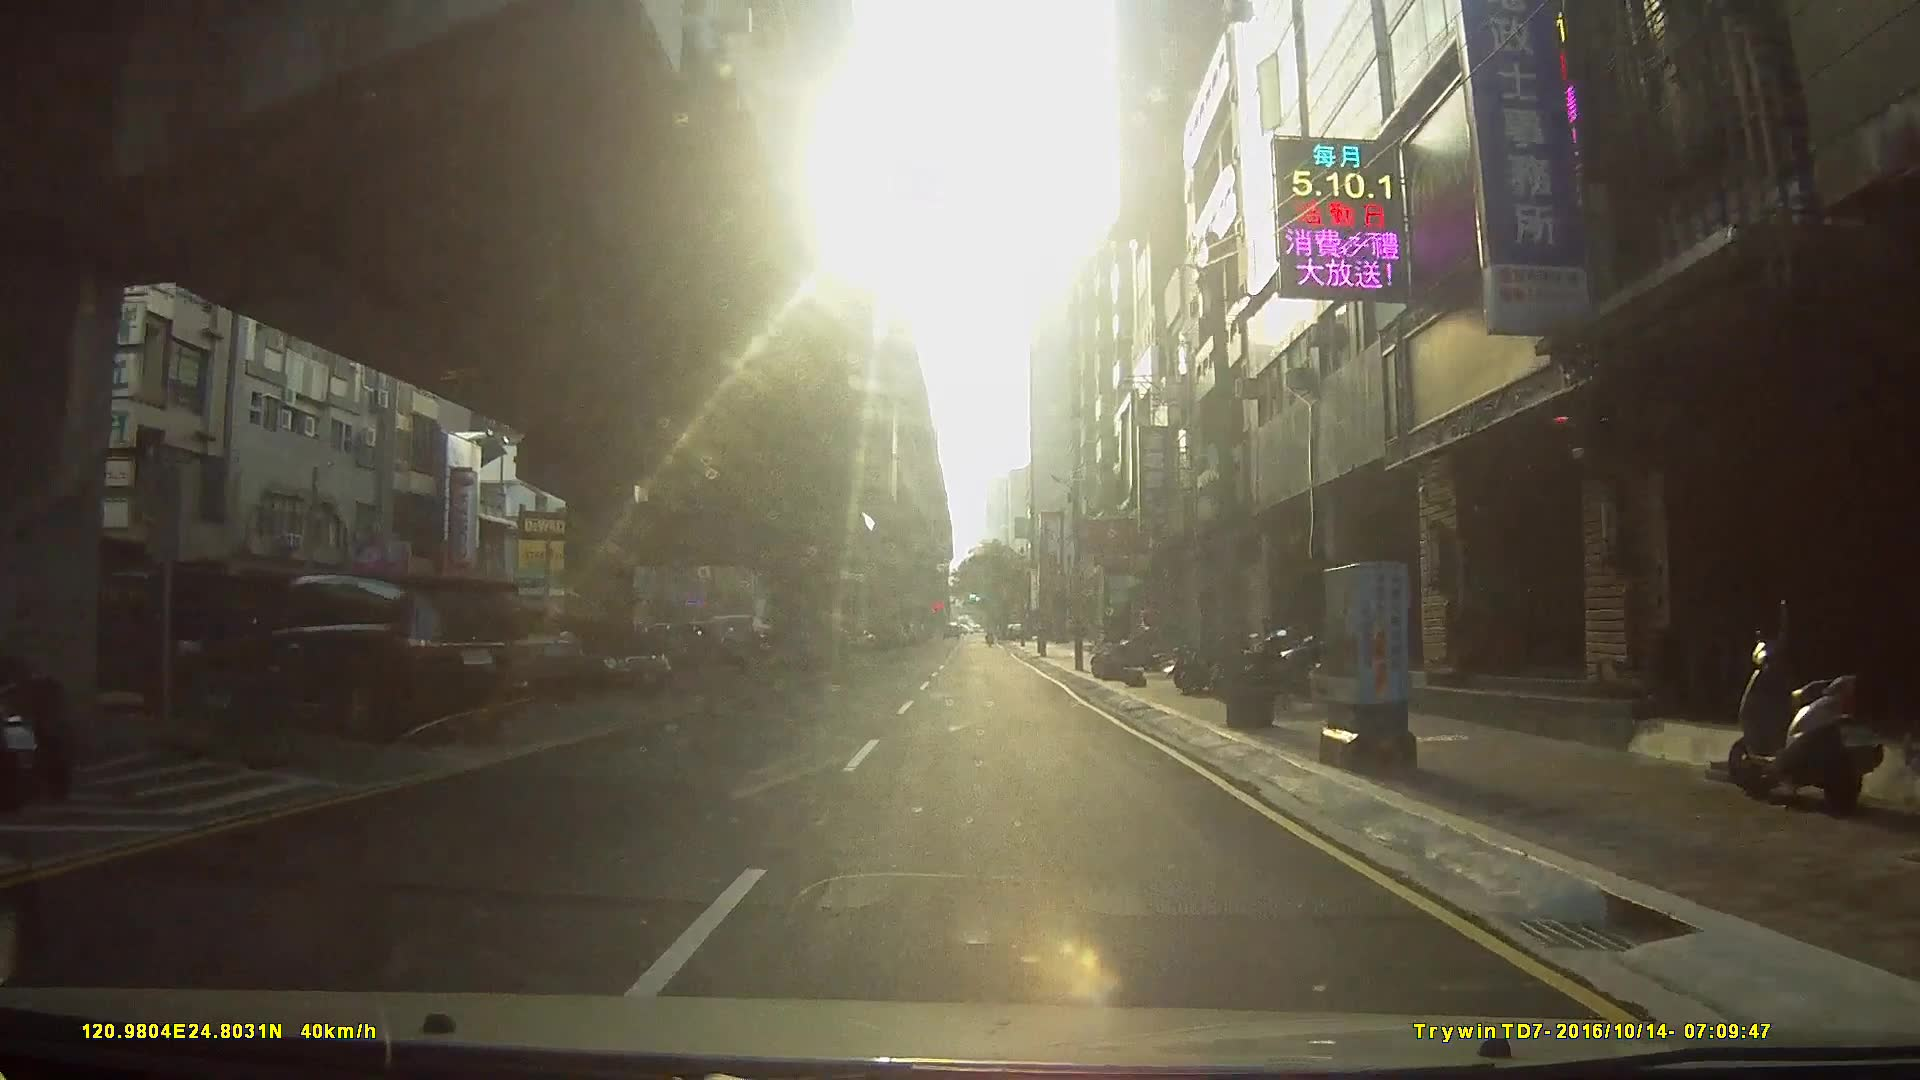vehicle: (191, 570, 524, 741), (55, 567, 266, 713), (545, 620, 673, 696)
